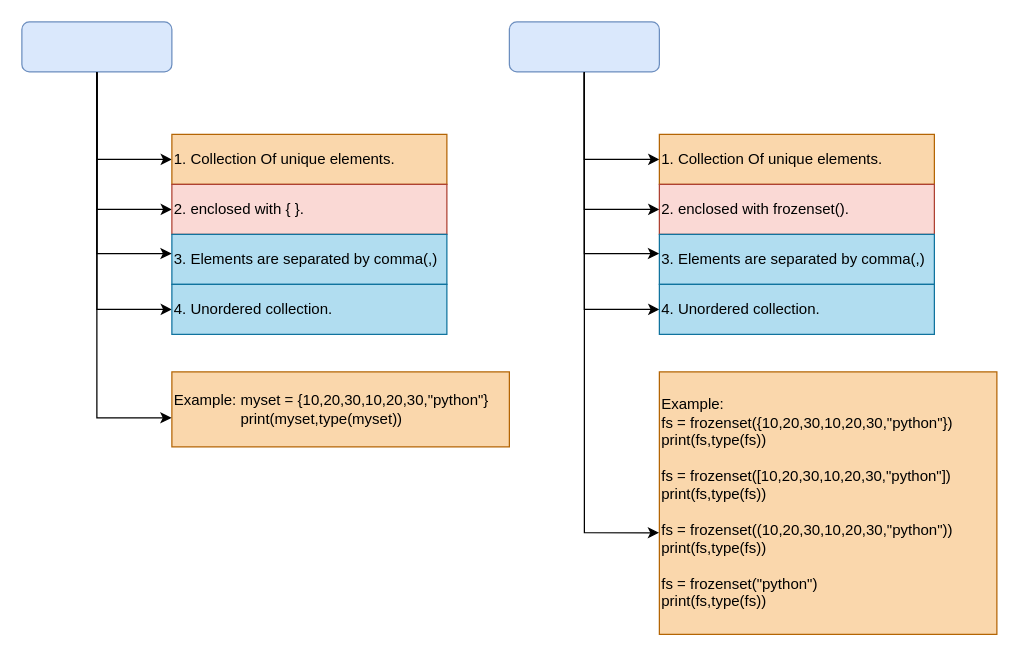
The diagram is 1019 pixels wide and 656 high, and some of its shapes have lost their labels. Each missing label, with the centre of its shape:
"Frozenset:-" belongs at pixel 583 46.
"Set : -" belongs at pixel 96 46.
